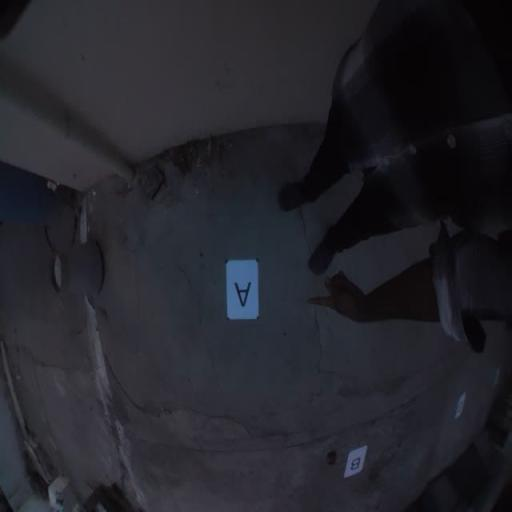A: (225, 258, 260, 321)
B: (342, 444, 369, 479)
